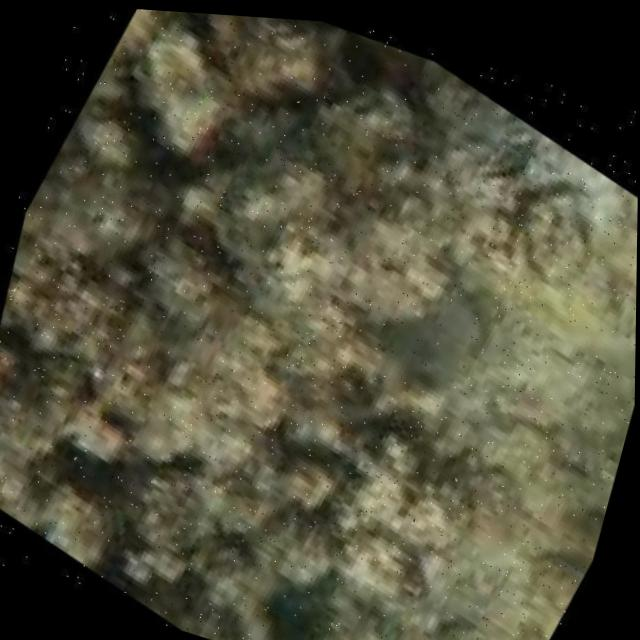Dead Coral: (0, 25, 608, 640)
